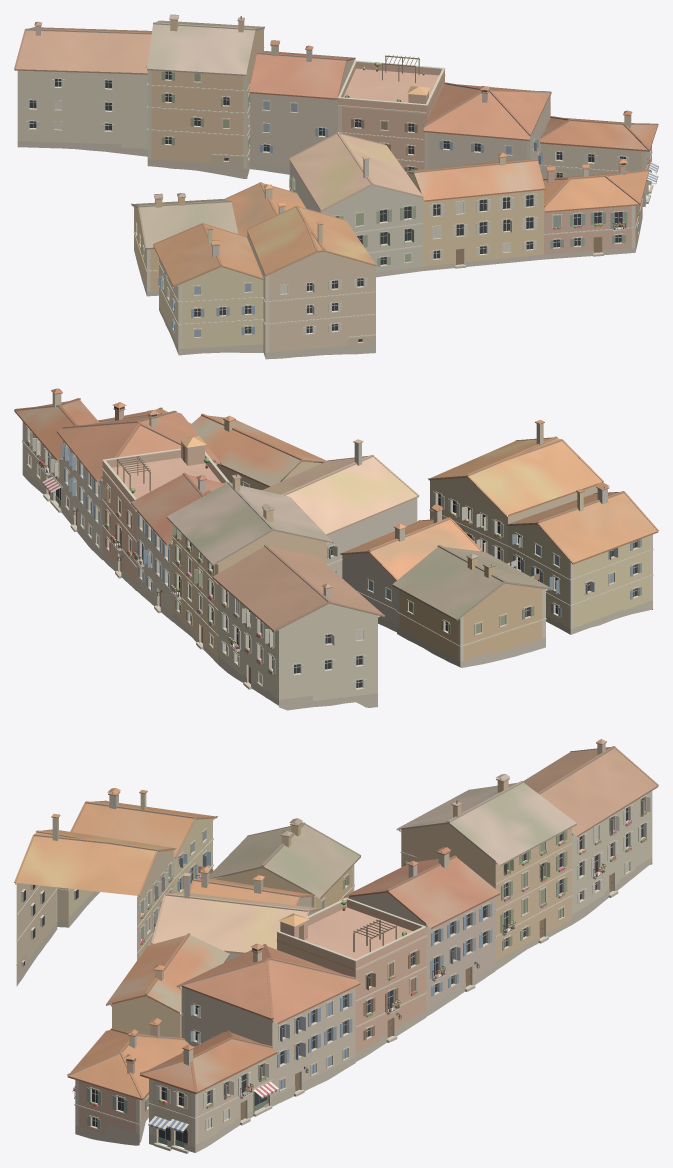
Rendered from SM_BM_BT_blk_11.glb.
3 views of the same model, one above another, from view 1: azimuth 30°, elevation 25°; view 2: azimuth 150°, elevation 25°; view 3: azimuth 270°, elevation 25° (orthographic). The views are drawn at different scales.
Parts seen in each view (by area): view 1: SM_BM_BT_blk_11; view 2: SM_BM_BT_blk_11; view 3: SM_BM_BT_blk_11.
Part boxes in pixels (bbox=[...]): SM_BM_BT_blk_11: bbox=[14, 14, 658, 359]; SM_BM_BT_blk_11: bbox=[14, 388, 658, 710]; SM_BM_BT_blk_11: bbox=[14, 739, 658, 1153].
Bounding box in the file's own units: 78.52 × 26.57 × 71.75.
